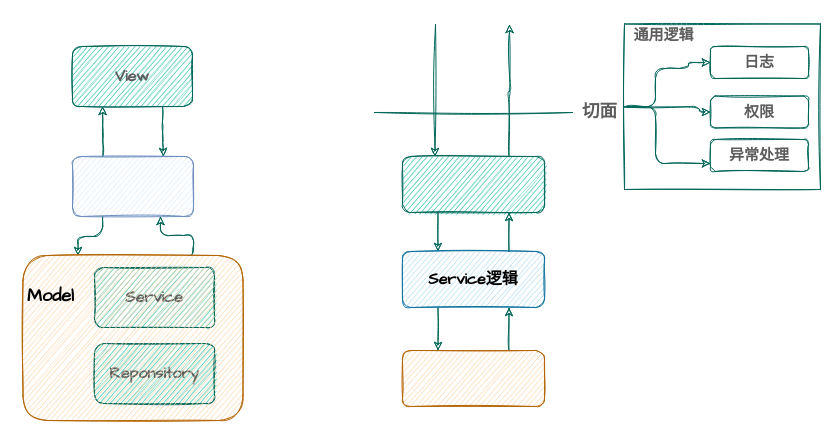
The diagram is 838 pixels wide and 438 high, and some of its shapes have lost their labels. Here are the shapes that lost their labels. From the top down, the centre of each, then its label:
point 133,186: Controller
point 473,184: Controller逻辑
point 473,378: Responsitory逻辑
